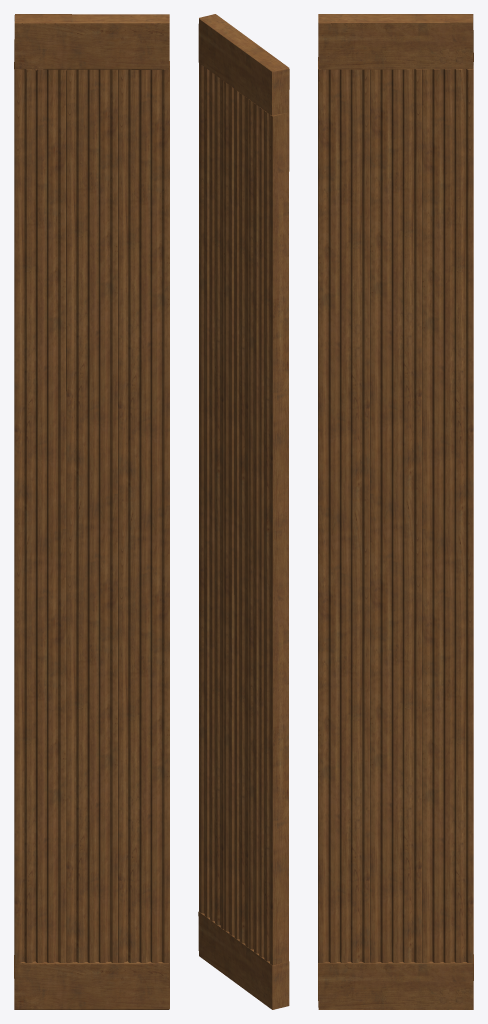
Rendered from SM_Office_wall01q.fbx.
The picture shows the model from 3 angles, left to right: view 1: azimuth 90°, elevation 25°; view 2: azimuth 210°, elevation 25°; view 3: azimuth 270°, elevation 25°; orthographic projection. The views are drawn at different scales.
Visible parts, largest first — view 1: SM_Office_wall01q_LOD0; view 2: SM_Office_wall01q_LOD0; view 3: SM_Office_wall01q_LOD0.
Boxes of the visible parts, bbox=[...] form: SM_Office_wall01q_LOD0: bbox=[14, 14, 169, 1009]; SM_Office_wall01q_LOD0: bbox=[198, 14, 289, 1009]; SM_Office_wall01q_LOD0: bbox=[318, 14, 473, 1009].
Size of the model in its own units: 20.55 by 150 by 1050.
